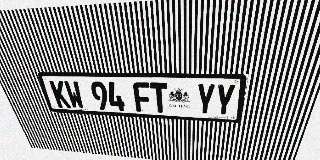4: (105, 82, 126, 111)
9: (89, 81, 111, 110)
F: (132, 82, 152, 112)
K: (49, 80, 71, 108)
T: (150, 82, 168, 113)
W: (63, 81, 85, 109)
Y: (214, 84, 236, 116), (196, 83, 216, 115)
